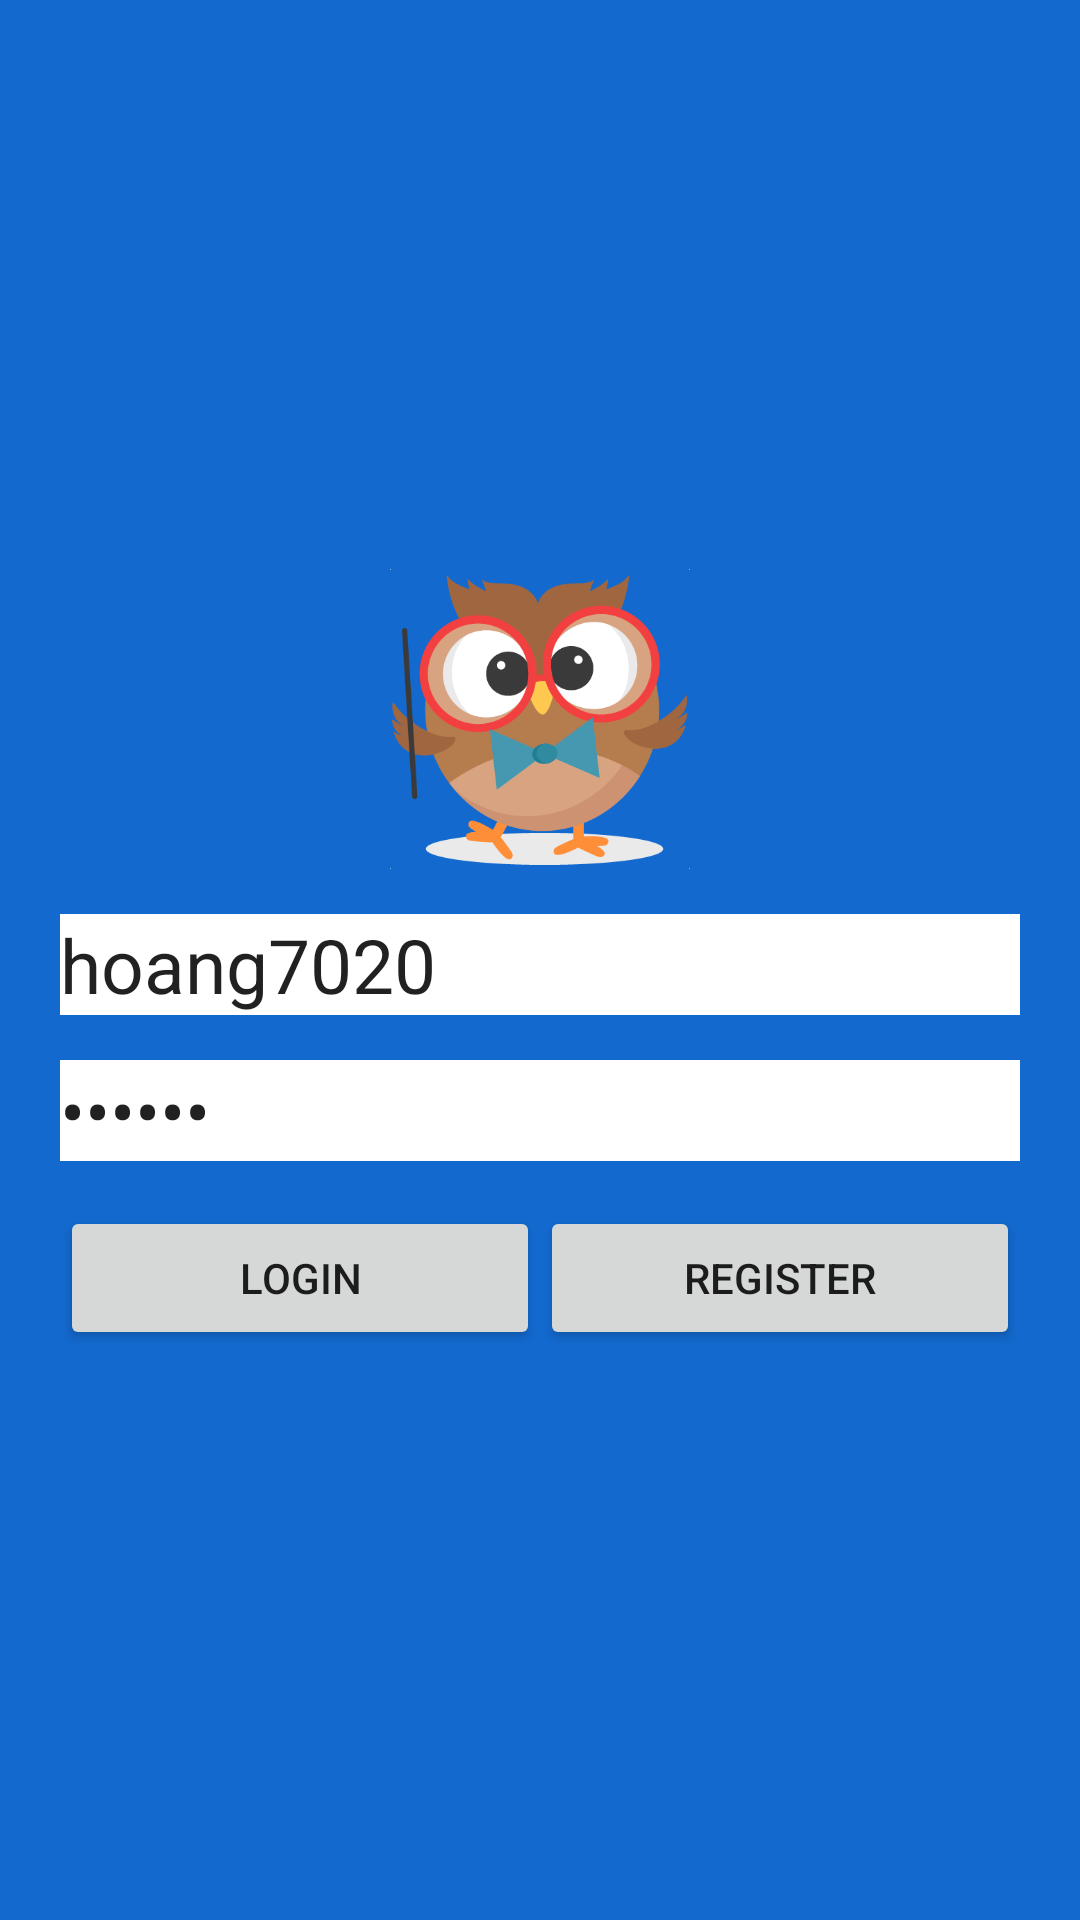

Point at icon controls on the screen. Image size 1080 x 1920, points as [x,y].
owl: [540,719]
